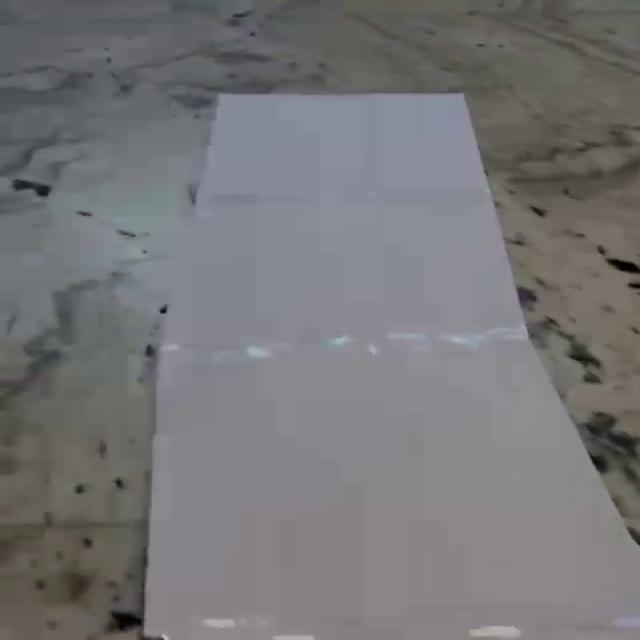road: (141, 93, 640, 640)
